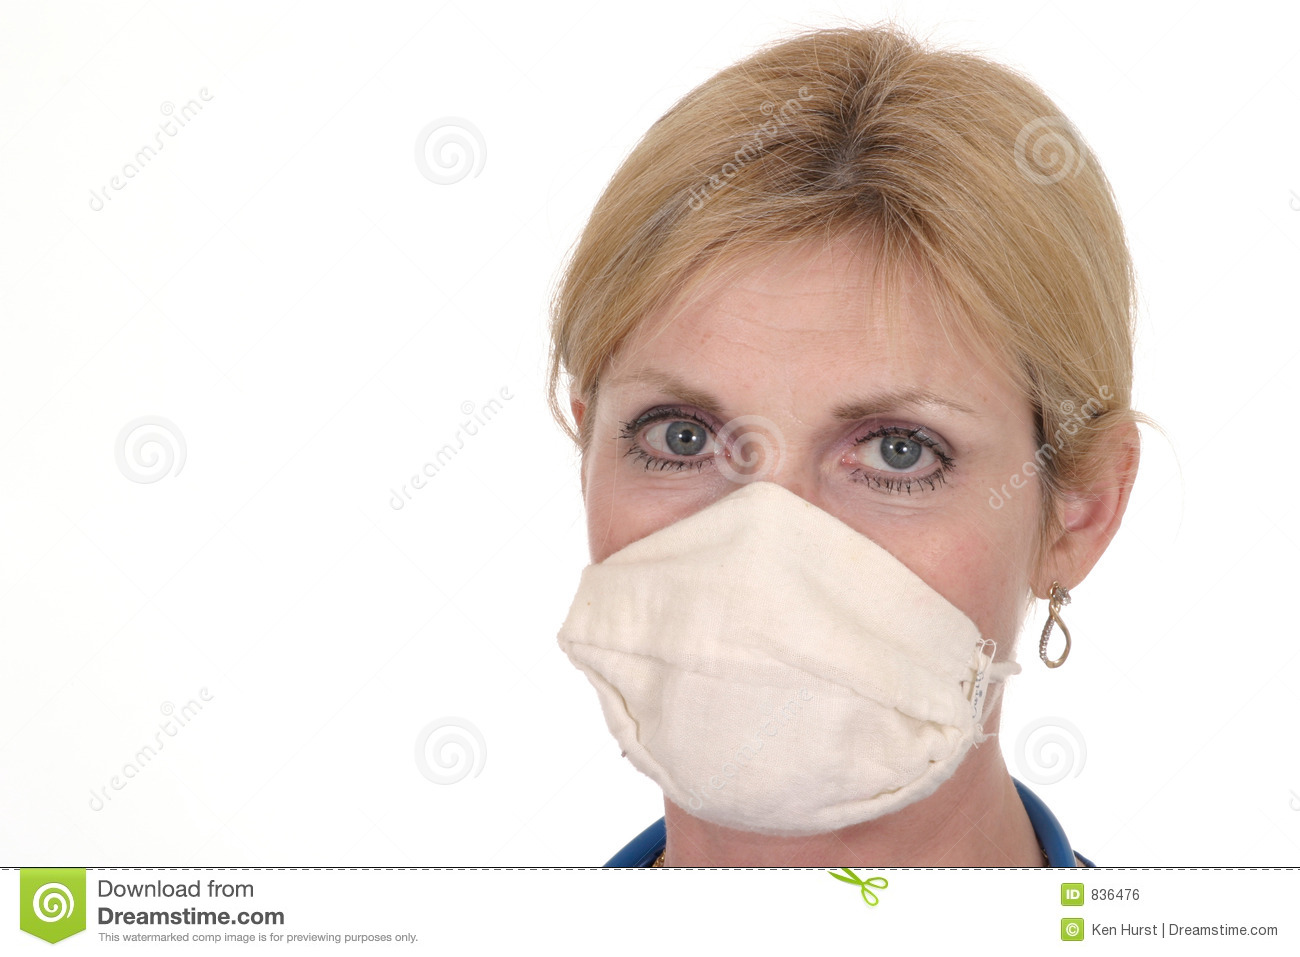mask: (551, 507, 998, 855)
